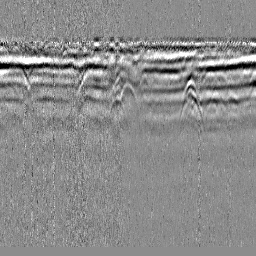cavity: (118, 81, 138, 107)
